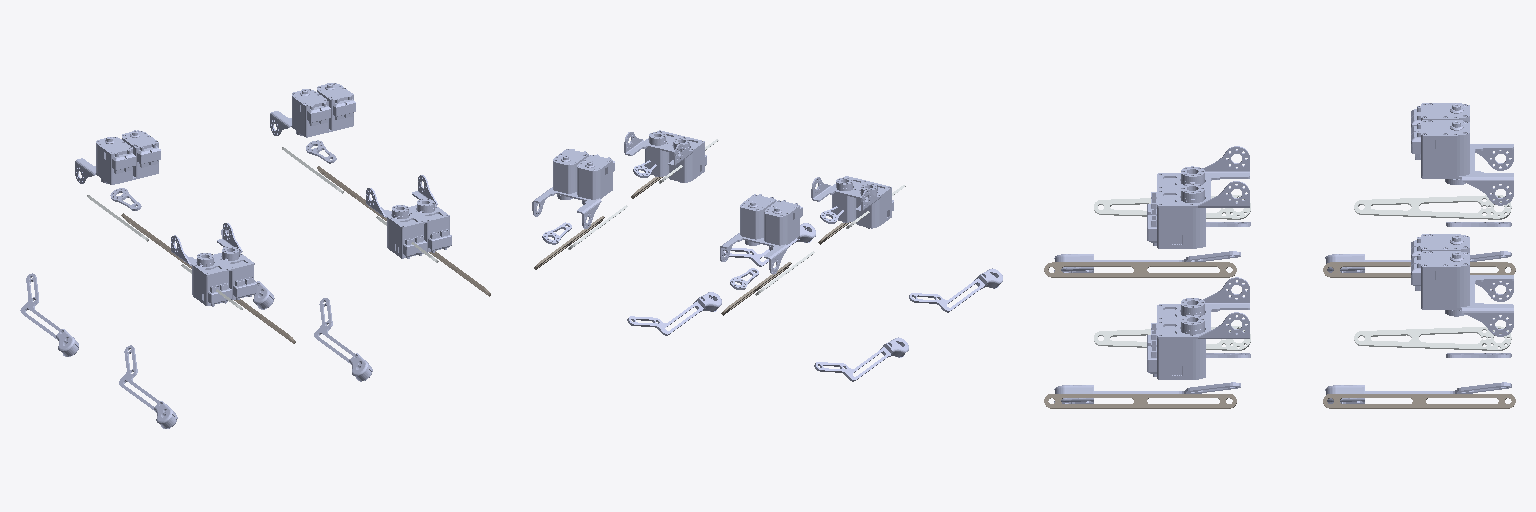
--- Facts derived from the render (not from the file) ---
The picture shows the robot from 3 angles, left to right: view 1: azimuth 30°, elevation 25°; view 2: azimuth 150°, elevation 25°; view 3: azimuth 270°, elevation 25°; orthographic projection.
Robot: stoch_two_abduction_urdf — 23 links, 22 joints (12 revolute, 8 continuous, 2 fixed); root link base_link; default pose: every joint at zero.
Visible links, largest first — view 1: front_right_abd_link, back_right_abd_link, back_left_abd_link, front_left_abd_link, br_lower_hip_link, bl_lower_hip_link, fr_lower_hip_link; view 2: back_left_abd_link, front_left_abd_link, front_right_abd_link, back_right_abd_link, fl_lower_hip_link, bl_lower_hip_link, br_lower_hip_link, fr_lower_hip_link; view 3: front_left_abd_link, back_left_abd_link, back_right_abd_link, front_right_abd_link, br_lower_knee_link, fl_upper_hip_link, bl_upper_hip_link, fl_lower_knee_link, fr_lower_knee_link, bl_lower_knee_link, fr_lower_hip_link, fl_lower_hip_link (+4 smaller).
Link boxes in pixels (<box>): front_right_abd_link: <box>366,175,451,258</box>; back_right_abd_link: <box>171,223,256,306</box>; back_left_abd_link: <box>75,130,160,184</box>; front_left_abd_link: <box>270,83,355,137</box>; br_lower_hip_link: <box>119,345,177,428</box>; bl_lower_hip_link: <box>20,273,78,356</box>; fr_lower_hip_link: <box>314,298,372,381</box>; back_left_abd_link: <box>720,194,802,274</box>; front_left_abd_link: <box>532,149,614,228</box>; front_right_abd_link: <box>624,130,706,182</box>; back_right_abd_link: <box>811,176,893,228</box>; fl_lower_hip_link: <box>627,292,721,335</box>; bl_lower_hip_link: <box>814,337,908,381</box>; br_lower_hip_link: <box>909,268,1002,312</box>; fr_lower_hip_link: <box>724,223,815,266</box>; front_left_abd_link: <box>1411,234,1513,336</box>; back_left_abd_link: <box>1411,103,1513,205</box>; back_right_abd_link: <box>1147,146,1249,248</box>; front_right_abd_link: <box>1147,277,1249,379</box>; br_lower_knee_link: <box>1044,262,1236,277</box>; fl_upper_hip_link: <box>1354,326,1511,350</box>; bl_upper_hip_link: <box>1354,195,1511,219</box>; fl_lower_knee_link: <box>1323,394,1515,408</box>; fr_lower_knee_link: <box>1044,394,1236,408</box>; bl_lower_knee_link: <box>1323,262,1515,277</box>; fr_lower_hip_link: <box>1054,382,1240,403</box>; fl_lower_hip_link: <box>1325,382,1511,403</box>.
Bounding box of the posed robot: 0.4547 × 0.4109 × 0.2199 m (x, y, z).
20 mesh visuals loaded from 9 distinct referenced files (6 OBJ); not drawn: 3 (reference not matched to a file when rendering).

robot.urdf — stoch_two_abduction_urdf:
<robot
  name="stoch_two_abduction_urdf">
  <link
    name="base_link">
    <inertial>
      <origin
        xyz="-0.00018289 -0.00058314 -0.0014954"
        rpy="0 0 0" />
      <mass
        value="0.1" />
      <inertia
        ixx="1.703E-05"
        ixy="4.4289E-07"
        ixz="3.1832E-08"
        iyy="8.9209E-05"
        iyz="-1.5964E-06"
        izz="0.00010459" />
    </inertial>
    <visual>
      <origin
        xyz="0 0 0"
        rpy="0 0 0" />
      <geometry>
        <mesh
          filename="base_link.obj" />
      </geometry>
      <material
        name="">
        <color
          rgba="0.79216 0.81961 0.93333 1" />
      </material>
    </visual>
    <collision>
      <origin
        xyz="0 0 0"
        rpy="0 0 0" />
      <geometry>
        <mesh
          filename="base_link.obj" />
      </geometry>
    </collision>
  </link>
  <link
    name="front_body_link">
    <inertial>
      <origin
        xyz="0.088699 3.0745E-07 0.019722"
        rpy="0 0 0" />
      <mass
        value="1" />
      <inertia
        ixx="0.0022826"
        ixy="-5.8326E-09"
        ixz="-1.2357E-05"
        iyy="0.0005698"
        iyz="4.2795E-07"
        izz="0.0026158" />
    </inertial>
    <visual>
      <origin
        xyz="0 0 0"
        rpy="0 0 0" />
      <geometry>
        <mesh
          filename="front_body_link.obj" />
      </geometry>
      <material
        name="">
        <color
          rgba="0.79216 0.81961 0.93333 1" />
      </material>
    </visual>
    <collision>
      <origin
        xyz="0 0 0"
        rpy="0 0 0" />
      <geometry>
        <mesh
          filename="front_body_link.obj" />
      </geometry>
    </collision>
  </link>
  <joint
    name="motor_front_body_spine_joint"
    type="fixed">
    <origin
      xyz="0.050947 0 0"
      rpy="-2.2019E-15 1.7035E-16 3.4422E-15" />
    <parent
      link="base_link" />
    <child
      link="front_body_link" />
    <!-- <axis
      xyz="0 1 0" />
    <limit
      lower="-0.26"
      upper="0.26"
      effort="100"
      velocity="100" />
    <dynamics
      damping="0"
      friction="0" /> -->
  </joint>
  <link
    name="front_left_abd_link">
    <inertial>
      <origin
        xyz="4.118E-05 -0.032715 -0.048093"
        rpy="0 0 0" />
      <mass
        value="0.277" />
      <inertia
        ixx="1.1789E-05"
        ixy="2.5858E-08"
        ixz="1.1409E-07"
        iyy="4.0497E-05"
        iyz="-5.2784E-06"
        izz="4.3082E-05" />
    </inertial>
    <visual>
      <origin
        xyz="0 0 0"
        rpy="0 0 0" />
      <geometry>
        <mesh
          filename="front_left_abd_link.obj" />
      </geometry>
      <material
        name="">
        <color
          rgba="0.79216 0.81961 0.93333 1" />
      </material>
    </visual>
    <collision>
      <origin
        xyz="0 0 0"
        rpy="0 0 0" />
      <geometry>
        <mesh
          filename="front_left_abd_link.obj" />
      </geometry>
    </collision>
  </link>
  <joint
    name="motor_front_left_abd_joint"
    type="revolute">
    <origin
      xyz="0.0831 0.11512 0.0073929"
      rpy="-4.4959E-07 -5.8797E-16 3.47E-15" />
    <parent
      link="front_body_link" />
    <child
      link="front_left_abd_link" />
    <axis
      xyz="-1 0 0" />
    <limit
      lower="0.26"
      upper="-3.92"
      effort="100"
      velocity="100" />
    <dynamics
      damping="0"
      friction="0" />
  </joint>
  <link
    name="fl_upper_hip_link">
    <inertial>
      <origin
        xyz="1.793E-07 2.498E-16 -0.054218"
        rpy="0 0 0" />
      <mass
        value="0.05" />
      <inertia
        ixx="0"
        ixy="0"
        ixz="0"
        iyy="0"
        iyz="0"
        izz="0" />
    </inertial>
    <visual>
      <origin
        xyz="0 0 0"
        rpy="0 0 0" />
      <geometry>
        <mesh
          filename="fl_upper_hip_link.obj" />
      </geometry>
      <material
        name="">
        <color
          rgba="0.89804 0.91765 0.92941 1" />
      </material>
    </visual>
    <collision>
      <origin
        xyz="0 0 0"
        rpy="0 0 0" />
      <geometry>
        <mesh
          filename="fl_upper_hip_link.obj" />
      </geometry>
    </collision>
  </link>
  <joint
    name="motor_fl_upper_hip_joint"
    type="revolute">
    <origin
      xyz="-0.0175 -0.0015 -0.0385"
      rpy="-5.3246E-15 0.78557 -4.3361E-15" />
    <parent
      link="front_left_abd_link" />
    <child
      link="fl_upper_hip_link" />
    <axis
      xyz="0 -1 0" />
    <limit
      lower="-0.78"
      upper="0.78"
      effort="100"
      velocity="100" />
    <dynamics
      damping="0"
      friction="0" />
  </joint>
  <link
    name="fl_lower_hip_link">
    <inertial>
      <origin
        xyz="-0.034185 0.00011378 -0.11157"
        rpy="0 0 0" />
      <mass
        value="0.1" />
      <inertia
        ixx="9.59277e-06"
        ixy="5.4371E-09"
        ixz="-2.1257E-09"
        iyy="9.59277e-06"
        iyz="3.5983E-09"
        izz="9.59277e-06" />
    </inertial>
    <visual>
      <origin
        xyz="0 0 0"
        rpy="0 0 0" />
      <geometry>
        <mesh
          filename="fl_lower_hip_link.obj" />
      </geometry>
      <material
        name="">
        <color
          rgba="0.79216 0.81961 0.93333 1" />
      </material>
    </visual>
    <collision>
      <origin
        xyz="0 0 0"
        rpy="0 0 0" />
      <geometry>
        <mesh
          filename="fl_lower_hip_link.obj" />
      </geometry>
    </collision>
  </link>
  <joint
    name="fl_lower_hip_joint"
    type="continuous">
    <origin
      xyz="0 0.0045 -0.12"
      rpy="3.7352E-14 -1.4398 -3.7103E-14" />
    <parent
      link="fl_upper_hip_link" />
    <child
      link="fl_lower_hip_link" />
    <axis
      xyz="0 1 0" />
  </joint>
  <link
    name="fl_upper_knee_link">
    <inertial>
      <origin
        xyz="-2.7756E-17 1.3878E-17 -0.014638"
        rpy="0 0 0" />
      <mass
        value="0.1" />
      <inertia
        ixx="1.4068E-05"
        ixy="5.4371E-09"
        ixz="-2.1257E-09"
        iyy="1.4389E-05"
        iyz="3.5983E-09"
        izz="1.4389E-05" />
    </inertial>
    <visual>
      <origin
        xyz="0 0 0"
        rpy="0 0 0" />
      <geometry>
        <mesh
          filename="fl_upper_knee_link.obj" />
      </geometry>
      <material
        name="">
        <color
          rgba="0.79216 0.81961 0.93333 1" />
      </material>
    </visual>
    <collision>
      <origin
        xyz="0 0 0"
        rpy="0 0 0" />
      <geometry>
        <mesh
          filename="fl_upper_knee_link.obj" />
      </geometry>
    </collision>
  </link>
  <joint
    name="motor_fl_upper_knee_joint"
    type="revolute">
    <origin
      xyz="0.0175 -0.0015 -0.0385"
      rpy="-2.4427E-16 -0.34913 -3.4692E-15" />
    <parent
      link="front_left_abd_link" />
    <child
      link="fl_upper_knee_link" />
    <axis
      xyz="0 -1 0" />
    <limit
      lower="-1.22"
      upper="1.22"
      effort="100"
      velocity="100" />
    <dynamics
      damping="0"
      friction="0" />
  </joint>
  <link
    name="fl_lower_knee_link">
    <inertial>
      <origin
        xyz="2.7756E-17 1.3878E-17 -0.0775"
        rpy="0 0 0" />
      <mass
        value="0.1" />
      <inertia
        ixx="1.4068E-05"
        ixy="5.4371E-09"
        ixz="-2.1257E-09"
        iyy="1.4389E-05"
        iyz="3.5983E-09"
        izz="1.4389E-05" />
    </inertial>
    <visual>
      <origin
        xyz="0 0 0"
        rpy="0 0 0" />
      <geometry>
        <mesh
          filename="fl_lower_knee_link.obj" />
      </geometry>
      <material
        name="">
        <color
          rgba="0.65098 0.61961 0.58824 1" />
      </material>
    </visual>
    <collision>
      <origin
        xyz="0 0 0"
        rpy="0 0 0" />
      <geometry>
        <mesh
          filename="fl_lower_knee_link.obj" />
      </geometry>
    </collision>
  </link>
  <joint
    name="fl_lower_knee_joint"
    type="continuous">
    <origin
      xyz="0 0.00800000000000321 -0.04"
      rpy="-6.00351684713904E-16 1.32467433907094 -5.43469254040339E-16" />
    <parent
      link="fl_upper_knee_link" />
    <child
      link="fl_lower_knee_link" />
    <axis
      xyz="0 0.999999999999798 0" />
  </joint>
  <link
    name="front_right_abd_link">
    <inertial>
      <origin
        xyz="-4.118E-05 0.032715 -0.048093"
        rpy="0 0 0" />
      <mass
        value="0.277" />
      <inertia
        ixx="1.1789E-05"
        ixy="2.5858E-08"
        ixz="-1.1409E-07"
        iyy="4.0497E-05"
        iyz="5.2784E-06"
        izz="4.3082E-05" />
    </inertial>
    <visual>
      <origin
        xyz="0 0 0"
        rpy="0 0 0" />
      <geometry>
        <mesh
          filename="front_right_abd_link.obj" />
      </geometry>
      <material
        name="">
        <color
          rgba="0.79216 0.81961 0.93333 1" />
      </material>
    </visual>
    <collision>
      <origin
        xyz="0 0 0"
        rpy="0 0 0" />
      <geometry>
        <mesh
          filename="front_right_abd_link.obj" />
      </geometry>
    </collision>
  </link>
  <joint
    name="motor_front_right_abd_joint"
    type="revolute">
    <origin
      xyz="0.0831 -0.11512 0.007393"
      rpy="-6.5915E-08 5.6553E-16 3.5412E-15" />
    <parent
      link="front_body_link" />
    <child
      link="front_right_abd_link" />
    <axis
      xyz="1 0 0" />
    <limit
      lower="0.26"
      upper="-3.92"
      effort="100"
      velocity="100" />
    <dynamics
      damping="0"
      friction="0" />
  </joint>
  <link
    name="fr_upper_hip_link">
    <inertial>
      <origin
        xyz="1.793E-07 2.7756E-16 -0.054218"
        rpy="0 0 0" />
      <mass
        value="0.1" />
      <inertia
        ixx="1.4068E-05"
        ixy="5.4371E-09"
        ixz="-2.1257E-09"
        iyy="1.4389E-05"
        iyz="3.5983E-09"
        izz="1.4389E-05" />
    </inertial>
    <visual>
      <origin
        xyz="0 0 0"
        rpy="0 0 0" />
      <geometry>
        <mesh
          filename="fl_upper_hip_link.obj" />
      </geometry>
      <material
        name="">
        <color
          rgba="0.89804 0.91765 0.92941 1" />
      </material>
    </visual>
    <collision>
      <origin
        xyz="0 0 0"
        rpy="0 0 0" />
      <geometry>
        <mesh
          filename="fl_upper_hip_link.obj" />
      </geometry>
    </collision>
  </link>
  <joint
    name="motor_fr_upper_hip_joint"
    type="revolute">
    <origin
      xyz="-0.0175 0.0015 -0.0385"
      rpy="-4.9286E-15 0.78557 -3.9063E-15" />
    <parent
      link="front_right_abd_link" />
    <child
      link="fr_upper_hip_link" />
    <axis
      xyz="0 -1 0" />
    <limit
      lower="-0.78"
      upper="0.78"
      effort="100"
      velocity="100" />
    <dynamics
      damping="0"
      friction="0" />
  </joint>
  <link
    name="fr_lower_hip_link">
    <inertial>
      <origin
        xyz="-0.034185 0.00011378 -0.11157"
        rpy="0 0 0" />
      <mass
        value="0.1" />
      <inertia
        ixx="9.59277e-06"
        ixy="5.4371E-09"
        ixz="-2.1257E-06"
        iyy="9.59277e-06"
        iyz="3.5983E-08"
        izz="9.59277e-06" />
    </inertial>
    <visual>
      <origin
        xyz="0 0 0"
        rpy="0 0 0" />
      <geometry>
        <mesh
          filename="fl_lower_hip_link.obj" />
      </geometry>
      <material
        name="">
        <color
          rgba="0.79216 0.81961 0.93333 1" />
      </material>
    </visual>
    <collision>
      <origin
        xyz="0 0 0"
        rpy="0 0 0" />
      <geometry>
        <mesh
          filename="fl_lower_hip_link.obj" />
      </geometry>
    </collision>
  </link>
  <joint
    name="fr_lower_hip_joint"
    type="continuous">
    <origin
      xyz="0 -0.0045 -0.12"
      rpy="0 -1.4398 0" />
    <parent
      link="fr_upper_hip_link" />
    <child
      link="fr_lower_hip_link" />
    <axis
      xyz="0 1 0" />
  </joint>
  <link
    name="fr_upper_knee_link">
    <inertial>
      <origin
        xyz="-2.7756E-17 -1.3878E-17 -0.014638"
        rpy="0 0 0" />
      <mass
        value="0.1" />
      <inertia
        ixx="1.4068E-05"
        ixy="5.4371E-09"
        ixz="-2.1257E-09"
        iyy="1.4389E-05"
        iyz="3.5983E-09"
        izz="1.4389E-05" />
    </inertial>
    <visual>
      <origin
        xyz="0 0 0"
        rpy="0 0 0" />
      <geometry>
        <mesh
          filename="fl_upper_knee_link.obj" />
      </geometry>
      <material
        name="">
        <color
          rgba="0.79216 0.81961 0.93333 1" />
      </material>
    </visual>
    <collision>
      <origin
        xyz="0 0 0"
        rpy="0 0 0" />
      <geometry>
        <mesh
          filename="fl_upper_knee_link.obj" />
      </geometry>
    </collision>
  </link>
  <joint
    name="motor_fr_upper_knee_joint"
    type="revolute">
    <origin
      xyz="0.0175 0.0015 -0.0385"
      rpy="2.2844E-18 -0.34913 -3.3454E-15" />
    <parent
      link="front_right_abd_link" />
    <child
      link="fr_upper_knee_link" />
    <axis
      xyz="0 -1 0" />
    <limit
      lower="-1.22"
      upper="1.22"
      effort="100"
      velocity="100" />
    <dynamics
      damping="0"
      friction="0" />
  </joint>
  <link
    name="fr_lower_knee_link">
    <inertial>
      <origin
        xyz="2.7756E-17 -1.3878E-17 -0.0775"
        rpy="0 0 0" />
      <mass
        value="0.1" />
      <inertia
        ixx="1.4068E-05"
        ixy="5.4371E-09"
        ixz="-2.1257E-09"
        iyy="1.4389E-05"
        iyz="3.5983E-09"
        izz="1.4389E-05" />
    </inertial>
    <visual>
      <origin
        xyz="0 0 0"
        rpy="0 0 0" />
      <geometry>
        <mesh
          filename="fl_lower_knee_link.obj" />
      </geometry>
      <material
        name="">
        <color
          rgba="0.65098 0.61961 0.58824 1" />
      </material>
    </visual>
    <collision>
      <origin
        xyz="0 0 0"
        rpy="0 0 0" />
      <geometry>
        <mesh
          filename="fl_lower_knee_link.obj" />
      </geometry>
    </collision>
  </link>
  <joint
    name="fr_lower_knee_joint"
    type="continuous">
    <origin
      xyz="0 -0.008 -0.04"
      rpy="-1.3511E-15 1.3247 -1.2659E-15" />
    <parent
      link="fr_upper_knee_link" />
    <child
      link="fr_lower_knee_link" />
    <axis
      xyz="0 1 0" />
  </joint>
  <link
    name="back_body_link">
    <inertial>
      <origin
        xyz="-0.088631 -3.0557E-07 0.019269"
        rpy="0 0 0" />
      <mass
        value="1.43" />
      <inertia
        ixx="0.0022927"
        ixy="-5.8531E-09"
        ixz="-7.6887E-08"
        iyy="0.00058938"
        iyz="4.2524E-07"
        izz="0.0026252" />
    </inertial>
    <visual>
      <origin
        xyz="0 0 0"
        rpy="0 0 0" />
      <geometry>
        <mesh
          filename="back_body_link.obj" />
      </geometry>
      <material
        name="">
        <color
          rgba="0.79216 0.81961 0.93333 1" />
      </material>
    </visual>
    <collision>
      <origin
        xyz="0 0 0"
        rpy="0 0 0" />
      <geometry>
        <mesh
          filename="back_body_link.obj" />
      </geometry>
    </collision>
  </link>
  <joint
    name="motor_back_body_spine_joint"
    type="fixed">
    <origin
      xyz="-0.051053 0 0"
      rpy="-3.1503E-15 1.7035E-16 -1.0297E-14" />
    <parent
      link="base_link" />
    <child
      link="back_body_link" />
    <!-- <axis
      xyz="0 1 0" />
    <limit
      lower="-0.26"
      upper="0.26"
      effort="100"
      velocity="100" />
    <dynamics
      damping="0"
      friction="0" /> -->
  </joint>
  <link
    name="back_left_abd_link">
    <inertial>
      <origin
        xyz="4.118E-05 -0.032715 -0.048093"
        rpy="0 0 0" />
      <mass
        value="0.277" />
      <inertia
        ixx="1.1789E-05"
        ixy="2.5858E-08"
        ixz="1.1409E-07"
        iyy="4.0497E-05"
        iyz="-5.2784E-06"
        izz="4.3082E-05" />
    </inertial>
    <visual>
      <origin
        xyz="0 0 0"
        rpy="0 0 0" />
      <geometry>
        <mesh
          filename="front_left_abd_link.obj" />
      </geometry>
      <material
        name="">
        <color
          rgba="0.79216 0.81961 0.93333 1" />
      </material>
    </visual>
    <collision>
      <origin
        xyz="0 0 0"
        rpy="0 0 0" />
      <geometry>
        <mesh
          filename="front_left_abd_link.obj" />
      </geometry>
    </collision>
  </link>
  <joint
    name="motor_back_left_abd_joint"
    type="revolute">
    <origin
      xyz="-0.0857 0.11512 0.007393"
      rpy="-4.4959E-07 -3.1031E-16 -5.0331E-14" />
    <parent
      link="back_body_link" />
    <child
      link="back_left_abd_link" />
    <axis
      xyz="-1 0 0" />
    <limit
      lower="0.26"
      upper="-3.92"
      effort="100"
      velocity="100" />
    <dynamics
      damping="0"
      friction="0" />
  </joint>
  <link
    name="bl_upper_hip_link">
    <inertial>
      <origin
        xyz="1.793E-07 2.498E-16 -0.054218"
        rpy="0 0 0" />
      <mass
        value="0.1" />
      <inertia
        ixx="1.4068E-05"
        ixy="5.4371E-09"
        ixz="-2.1257E-09"
        iyy="1.4389E-05"
        iyz="3.5983E-09"
        izz="1.4389E-05" />
    </inertial>
    <visual>
      <origin
        xyz="0 0 0"
        rpy="0 0 0" />
      <geometry>
        <mesh
          filename="fl_upper_hip_link.obj" />
      </geometry>
      <material
        name="">
        <color
          rgba="0.89804 0.91765 0.92941 1" />
      </material>
    </visual>
    <collision>
      <origin
        xyz="0 0 0"
        rpy="0 0 0" />
      <geometry>
        <mesh
          filename="fl_upper_hip_link.obj" />
      </geometry>
    </collision>
  </link>
  <joint
    name="motor_bl_upper_hip_joint"
    type="revolute">
    <origin
      xyz="-0.0175 -0.0015 -0.0385"
      rpy="-4.7626E-15 0.7854 3.3627E-15" />
    <parent
      link="back_left_abd_link" />
    <child
      link="bl_upper_hip_link" />
    <axis
      xyz="0 -1 0" />
    <limit
      lower="-0.78"
      upper="0.78"
      effort="100"
      velocity="100" />
    <dynamics
      damping="0"
      friction="0" />
  </joint>
  <link
    name="bl_lower_hip_link">
    <inertial>
      <origin
        xyz="-0.034185 0.00011378 -0.11157"
        rpy="0 0 0" />
      <mass
        value="0.1" />
      <inertia
        ixx="9.59277e-06"
        ixy="5.4371E-09"
        ixz="-2.1257E-06"
        iyy="9.59277e-06"
        iyz="3.5983E-08"
        izz="9.59277e-06" />
    </inertial>
    <visual>
      <origin
        xyz="0 0 0"
        rpy="0 0 0" />
      <geometry>
        <mesh
          filename="fl_lower_hip_link.obj" />
      </geometry>
      <material
        name="">
        <color
          rgba="0.79216 0.81961 0.93333 1" />
      </material>
    </visual>
    <collision>
      <origin
        xyz="0 0 0"
        rpy="0 0 0" />
      <geometry>
        <mesh
          filename="fl_lower_hip_link.obj" />
      </geometry>
    </collision>
  </link>
  <joint
    name="bl_lower_hip_joint"
    type="continuous">
    <origin
      xyz="0 0.0045 -0.12"
      rpy="3.8659E-14 -1.4394 -3.8737E-14" />
    <parent
      link="bl_upper_hip_link" />
    <child
      link="bl_lower_hip_link" />
    <axis
      xyz="0 1 0" />
  </joint>
  <link
    name="bl_upper_knee_link">
    <inertial>
      <origin
        xyz="0 1.3878E-17 -0.014638"
        rpy="0 0 0" />
      <mass
        value="0.1" />
      <inertia
        ixx="1.4068E-05"
        ixy="5.4371E-09"
        ixz="-2.1257E-09"
        iyy="1.4389E-05"
        iyz="3.5983E-09"
        izz="1.4389E-05" />
    </inertial>
    <visual>
      <origin
        xyz="0 0 0"
        rpy="0 0 0" />
      <geometry>
        <mesh
          filename="fl_upper_knee_link.obj" />
      </geometry>
      <material
        name="">
        <color
          rgba="0.79216 0.81961 0.93333 1" />
      </material>
    </visual>
    <collision>
      <origin
        xyz="0 0 0"
        rpy="0 0 0" />
      <geometry>
        <mesh
          filename="fl_upper_knee_link.obj" />
      </geometry>
    </collision>
  </link>
  <joint
    name="motor_bl_upper_knee_joint"
    type="revolute">
    <origin
      xyz="0.0175 -0.0015 -0.0385"
      rpy="-6.7366E-18 -0.34907 3.4938E-15" />
    <parent
      link="back_left_abd_link" />
    <child
      link="bl_upper_knee_link" />
    <axis
      xyz="0 -1 0" />
    <limit
      lower="-1.22"
      upper="1.22"
      effort="100"
      velocity="100" />
    <dynamics
      damping="0"
      friction="0" />
  </joint>
  <link
    name="bl_lower_knee_link">
    <inertial>
      <origin
        xyz="1.301E-18 0 -0.0775"
        rpy="0 0 0" />
      <mass
        value="0.1" />
      <inertia
        ixx="1.4068E-05"
        ixy="5.4371E-09"
        ixz="-2.1257E-09"
        iyy="1.4389E-05"
        iyz="3.5983E-09"
        izz="1.4389E-05" />
    </inertial>
    <visual>
      <origin
        xyz="0 0 0"
        rpy="0 0 0" />
      <geometry>
        <mesh
          filename="fl_lower_knee_link.obj" />
      </geometry>
      <material
        name="">
        <color
          rgba="0.65098 0.61961 0.58824 1" />
      </material>
    </visual>
    <collision>
      <origin
        xyz="0 0 0"
        rpy="0 0 0" />
      <geometry>
        <mesh
          filename="fl_lower_knee_link.obj" />
      </geometry>
    </collision>
  </link>
  <joint
    name="bl_lower_knee_joint"
    type="continuous">
    <origin
      xyz="0 0.008 -0.04"
      rpy="-1.9439E-16 1.3245 -1.3657E-16" />
    <parent
      link="bl_upper_knee_link" />
    <child
      link="bl_lower_knee_link" />
    <axis
      xyz="0 1 0" />
  </joint>
  <link
    name="back_right_abd_link">
    <inertial>
      <origin
        xyz="-4.118E-05 0.032715 -0.048093"
        rpy="0 0 0" />
      <mass
        value="0.277" />
      <inertia
        ixx="1.1789E-05"
        ixy="2.5858E-08"
        ixz="-1.1409E-07"
        iyy="4.0497E-05"
        iyz="5.2784E-06"
        izz="4.3082E-05" />
    </inertial>
    <visual>
      <origin
        xyz="0 0 0"
        rpy="0 0 0" />
      <geometry>
        <mesh
          filename="front_right_abd_link.obj" />
      </geometry>
      <material
        name="">
        <color
          rgba="0.79216 0.81961 0.93333 1" />
      </material>
    </visual>
    <collision>
      <origin
        xyz="0 0 0"
        rpy="0 0 0" />
      <geometry>
        <mesh
          filename="front_right_abd_link.obj" />
      </geometry>
    </collision>
  </link>
  <joint
    name="motor_back_right_abd_joint"
    type="revolute">
    <origin
      xyz="-0.0857 -0.11512 0.007393"
      rpy="4.4959E-07 8.3667E-16 1.0447E-14" />
    <parent
      link="back_body_link" />
    <child
      link="back_right_abd_link" />
    <axis
      xyz="1 0 0" />
    <limit
      lower="0.26"
      upper="-3.92"
      effort="100"
      velocity="100" />
    <dynamics
      damping="0"
      friction="0" />
  </joint>
  <link
    name="br_upper_hip_link">
    <inertial>
      <origin
        xyz="1.793E-07 2.3592E-16 -0.054218"
        rpy="0 0 0" />
      <mass
        value="0.1" />
      <inertia
        ixx="1.4068E-05"
        ixy="5.4371E-09"
        ixz="-2.1257E-09"
        iyy="1.4389E-05"
        iyz="3.5983E-09"
        izz="1.4389E-05" />
    </inertial>
    <visual>
      <origin
        xyz="0 0 0"
        rpy="0 0 0" />
      <geometry>
        <mesh
          filename="fl_upper_hip_link.obj" />
      </geometry>
      <material
        name="">
        <color
          rgba="0.89804 0.91765 0.92941 1" />
      </material>
    </visual>
    <collision>
      <origin
        xyz="0 0 0"
        rpy="0 0 0" />
      <geometry>
        <mesh
          filename="fl_upper_hip_link.obj" />
      </geometry>
    </collision>
  </link>
  <joint
    name="motor_br_upper_hip_joint"
    type="revolute">
    <origin
      xyz="-0.0175 0.0015 -0.0385"
      rpy="-5.0242E-15 0.7854 4.6722E-14" />
    <parent
      link="back_right_abd_link" />
    <child
      link="br_upper_hip_link" />
    <axis
      xyz="0 -1 0" />
    <limit
      lower="-0.78"
      upper="0.78"
      effort="100"
      velocity="100" />
    <dynamics
      damping="0"
      friction="0" />
  </joint>
  <link
    name="br_lower_hip_link">
    <inertial>
      <origin
        xyz="-0.034185 0.00011378 -0.11157"
        rpy="0 0 0" />
      <mass
        value="0.1" />
      <inertia
        ixx="9.59277e-06"
        ixy="5.4371E-09"
        ixz="-2.1257E-06"
        iyy="9.59277e-06"
        iyz="3.5983E-08"
        izz="9.59277e-06" />
    </inertial>
    <visual>
      <origin
        xyz="0 0 0"
        rpy="0 0 0" />
      <geometry>
        <mesh
          filename="fl_lower_hip_link.obj" />
      </geometry>
      <material
        name="">
        <color
          rgba="0.79216 0.81961 0.93333 1" />
      </material>
    </visual>
    <collision>
      <origin
        xyz="0 0 0"
        rpy="0 0 0" />
      <geometry>
        <mesh
          filename="fl_lower_hip_link.obj" />
      </geometry>
    </collision>
  </link>
  <joint
    name="br_lower_hip_joint"
    type="continuous">
    <origin
      xyz="0 -0.0045 -0.12"
      rpy="3.8983E-14 -1.4388 -3.8443E-14" />
    <parent
      link="br_upper_hip_link" />
    <child
      link="br_lower_hip_link" />
    <axis
      xyz="0 1 0" />
  </joint>
  <link
    name="br_upper_knee_link">
    <inertial>
      <origin
        xyz="2.7756E-17 -1.3878E-17 -0.014638"
        rpy="0 0 0" />
      <mass
        value="0.1" />
      <inertia
        ixx="1.4068E-05"
        ixy="5.4371E-09"
        ixz="-2.1257E-09"
        iyy="1.4389E-05"
        iyz="3.5983E-09"
        izz="1.4389E-05" />
    </inertial>
    <visual>
      <origin
        xyz="0 0 0"
        rpy="0 0 0" />
      <geometry>
        <mesh
          filename="fl_upper_knee_link.obj" />
      </geometry>
      <material
        name="">
        <color
          rgba="0.79216 0.81961 0.93333 1" />
      </material>
    </visual>
    <collision>
      <origin
        xyz="0 0 0"
        rpy="0 0 0" />
      <geometry>
        <mesh
          filename="fl_upper_knee_link.obj" />
      </geometry>
    </collision>
  </link>
  <joint
    name="motor_br_upper_knee_joint"
    type="revolute">
    <origin
      xyz="0.0175 0.0015 -0.0385"
      rpy="1.0343E-16 -0.34907 4.7367E-14" />
    <parent
      link="back_right_abd_link" />
    <child
      link="br_upper_knee_link" />
    <axis
      xyz="0 -1 0" />
    <limit
      lower="-1.22"
      upper="1.22"
      effort="100"
      velocity="100" />
    <dynamics
      damping="0"
      friction="0" />
  </joint>
  <link
    name="br_lower_knee_link">
    <inertial>
      <origin
        xyz="-2.6021E-17 -2.7756E-17 -0.0775"
        rpy="0 0 0" />
      <mass
        value="0.1" />
      <inertia
        ixx="1.4068E-05"
        ixy="5.4371E-09"
        ixz="-2.1257E-09"
        iyy="1.4389E-05"
        iyz="3.5983E-09"
        izz="1.4389E-05" />
    </inertial>
    <visual>
      <origin
        xyz="0 0 0"
        rpy="0 0 0" />
      <geometry>
        <mesh
          filename="fl_lower_knee_link.obj" />
      </geometry>
      <material
        name="">
        <color
          rgba="0.65098 0.61961 0.58824 1" />
      </material>
    </visual>
    <collision>
      <origin
        xyz="0 0 0"
        rpy="0 0 0" />
      <geometry>
        <mesh
          filename="fl_lower_knee_link.obj" />
      </geometry>
    </collision>
  </link>
  <joint
    name="br_lower_knee_joint"
    type="continuous">
    <origin
      xyz="0 -0.008 -0.04"
      rpy="7.1694E-17 1.3245 4.3167E-17" />
    <parent
      link="br_upper_knee_link" />
    <child
      link="br_lower_knee_link" />
    <axis
      xyz="0 1 0" />
  </joint>
</robot>
